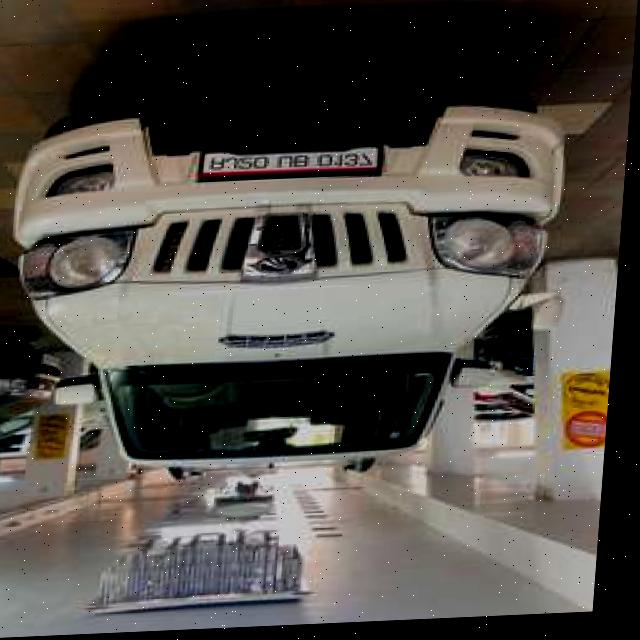plate: (200, 147, 386, 185)
